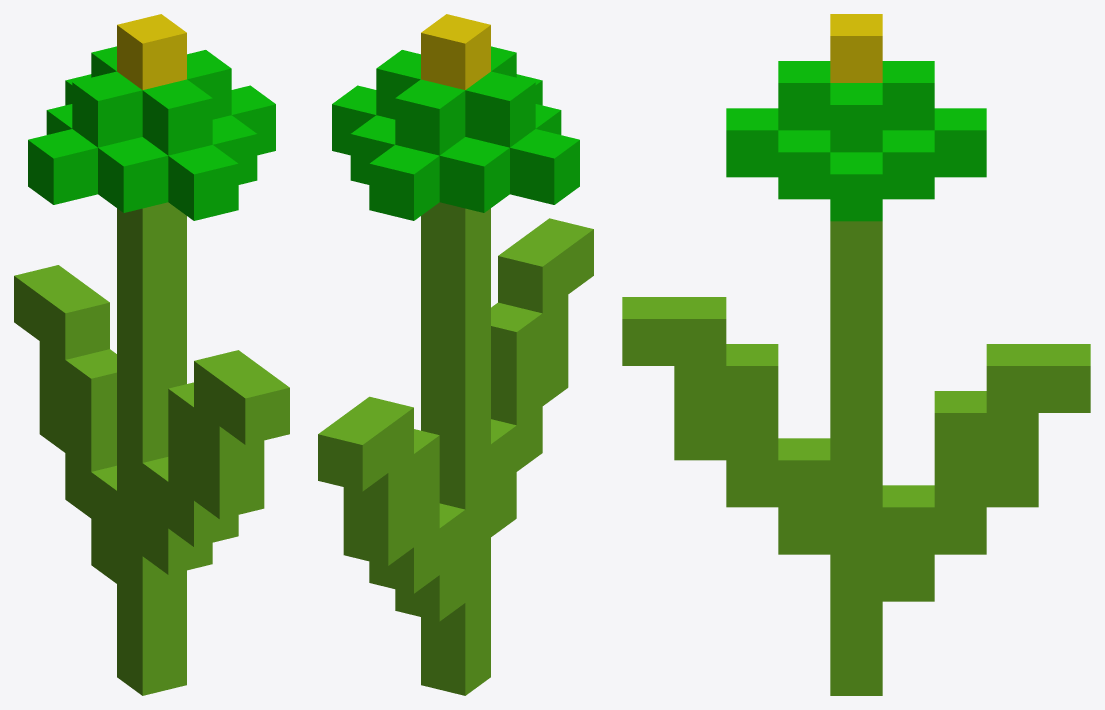
Rendered from Green tall flower..fbx.
The picture shows the model from 3 angles, left to right: view 1: azimuth 30°, elevation 25°; view 2: azimuth 150°, elevation 25°; view 3: azimuth 270°, elevation 25°; orthographic projection.
Parts seen in each view (by area): view 1: Untitled; view 2: Untitled; view 3: Untitled.
Part boxes in pixels (x1,y1,x2,y2): Untitled: (14,14,289,695); Untitled: (318,14,593,695); Untitled: (622,14,1090,695).
Bounding box in the file's own units: 50 × 140 × 90.
